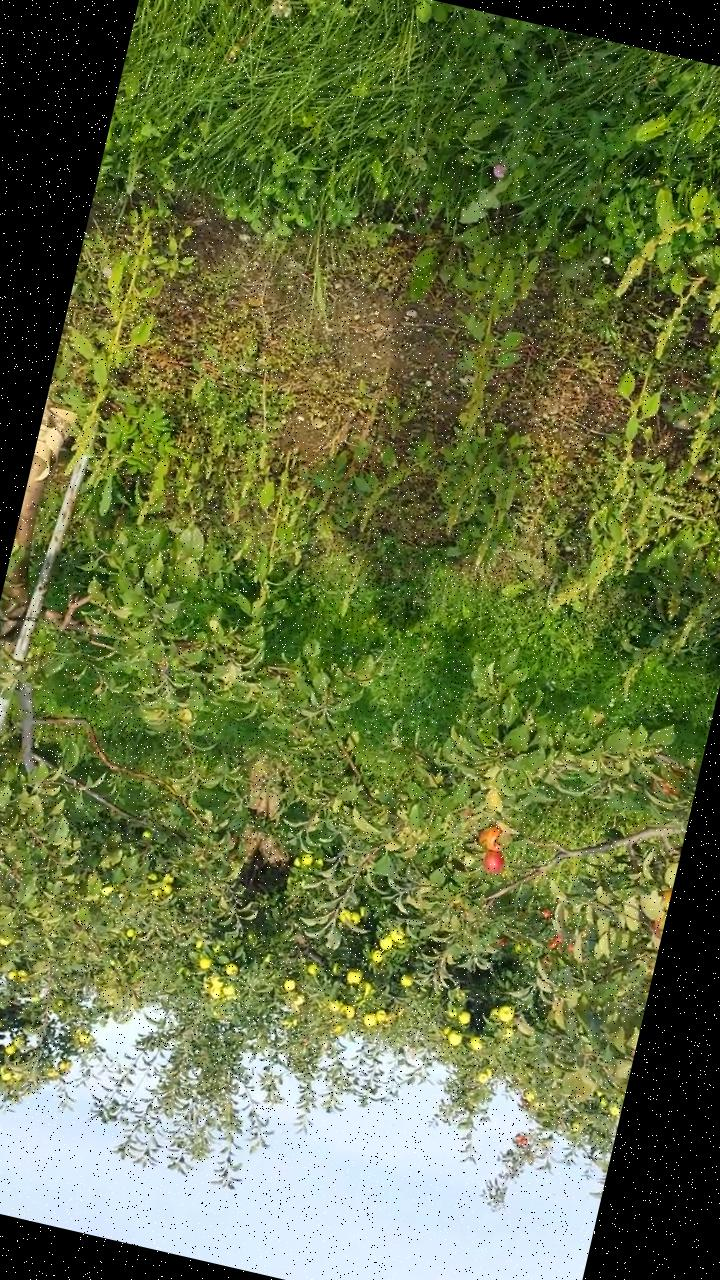Apple: (478, 848, 508, 878), (476, 824, 504, 852), (648, 777, 682, 799), (655, 888, 671, 908), (648, 918, 662, 936)
